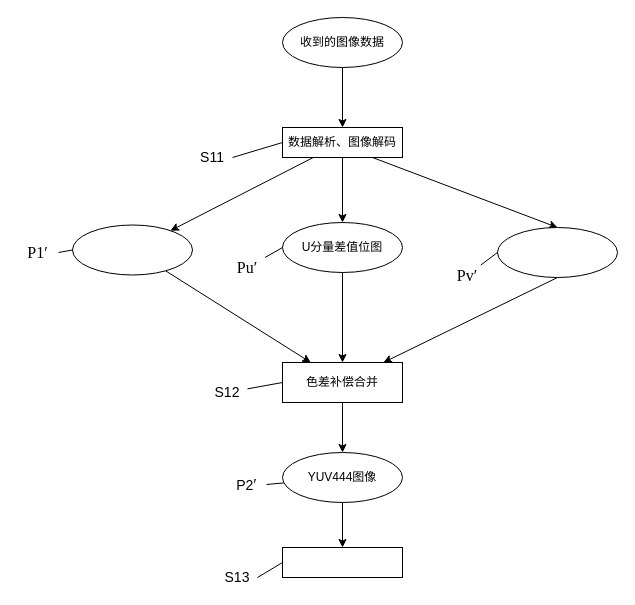
Some shapes in this 635 by 605 pixel diagram are drawn without their labels. Each missing label, with the box of its shape:
V分量差值位图: (496, 226, 618, 278)
YUV420图像: (72, 224, 192, 275)
显示输出: (282, 546, 402, 578)
